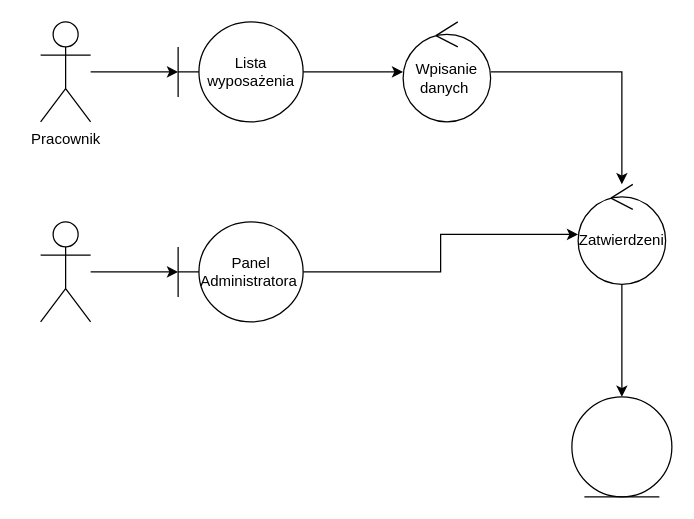
This 694x519 diagram has some shape labels left out. The shapes that lost their labels are listed below. From the top down, each one's centre as x and y in pixels, then its label:
(65,271): Administrator
(621,446): Wyposażenie
